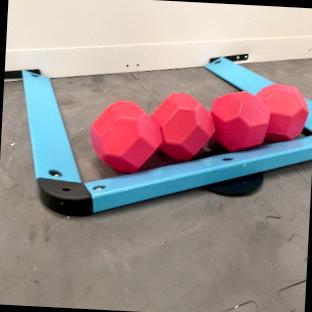Parking - B: (206, 58, 273, 93)
V5_RED: (89, 92, 211, 172), (210, 84, 307, 149)
